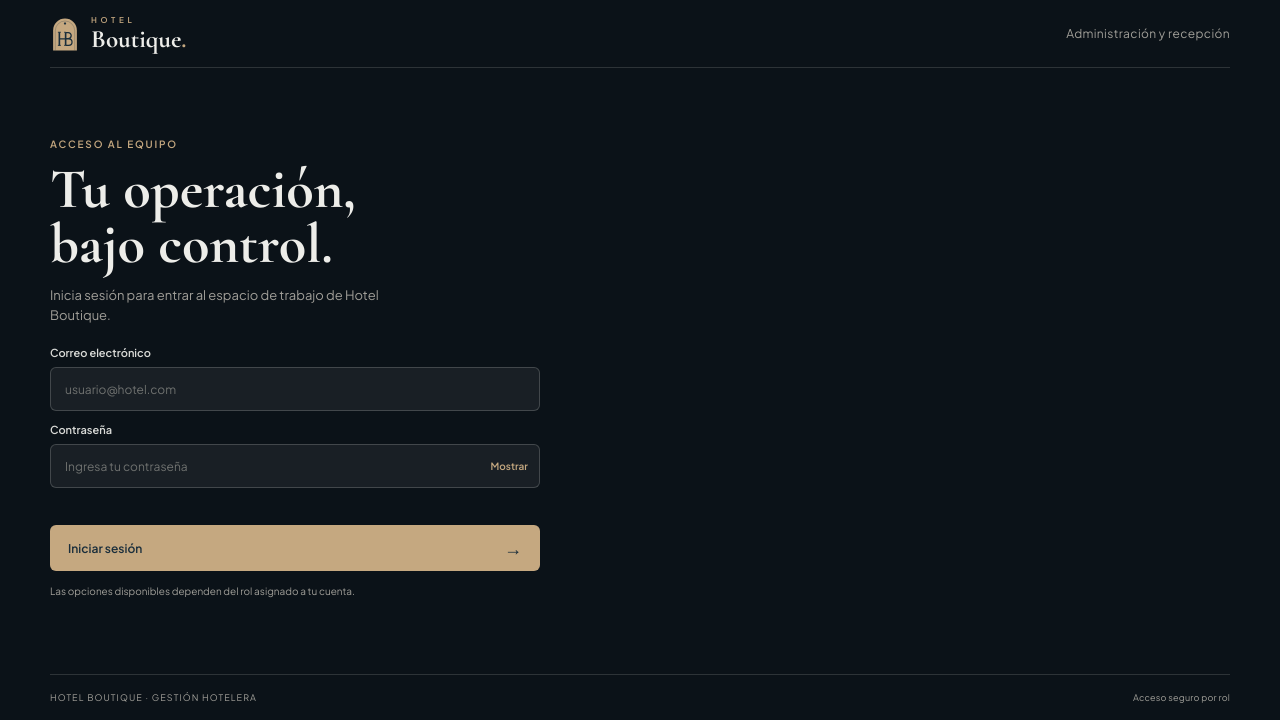
inicio de sesión › rechaza una respuesta vacía de la API sin abrir el panel
Step 1. Type "recepcion@hotel.com" into the field labelled "Correo electrónico" → coordinates (295, 389), box x1=50 y1=367 x2=540 y2=411
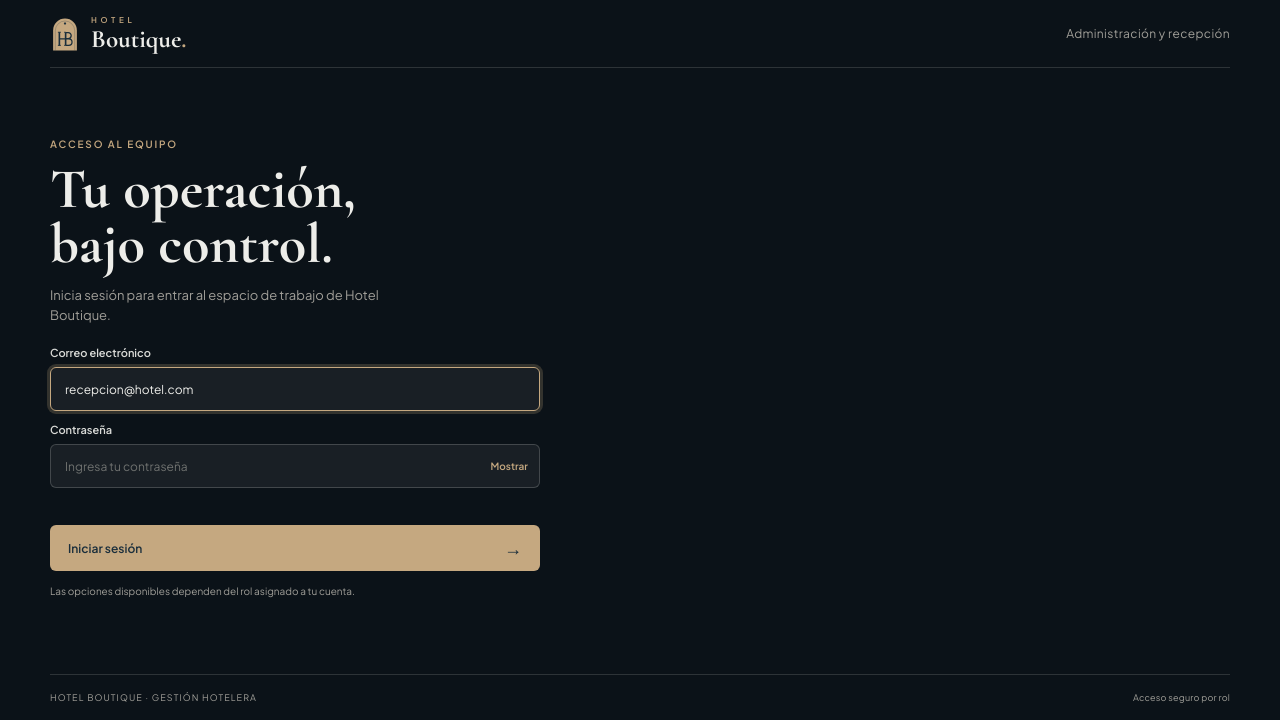
Step 2. Type "clave-test" into the password field labelled "Contraseña" → coordinates (295, 466), box x1=50 y1=444 x2=540 y2=488
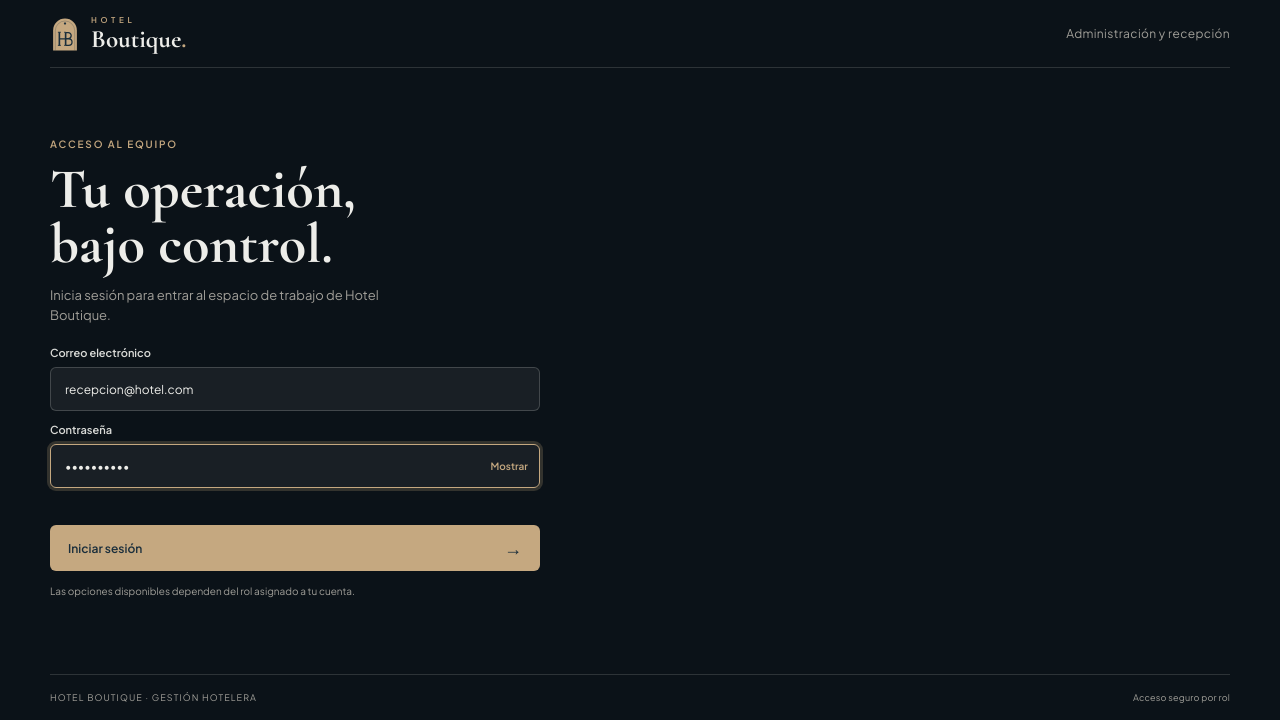
Step 3. Click the button "Iniciar sesión →" → coordinates (105, 548), box x1=50 y1=525 x2=540 y2=571
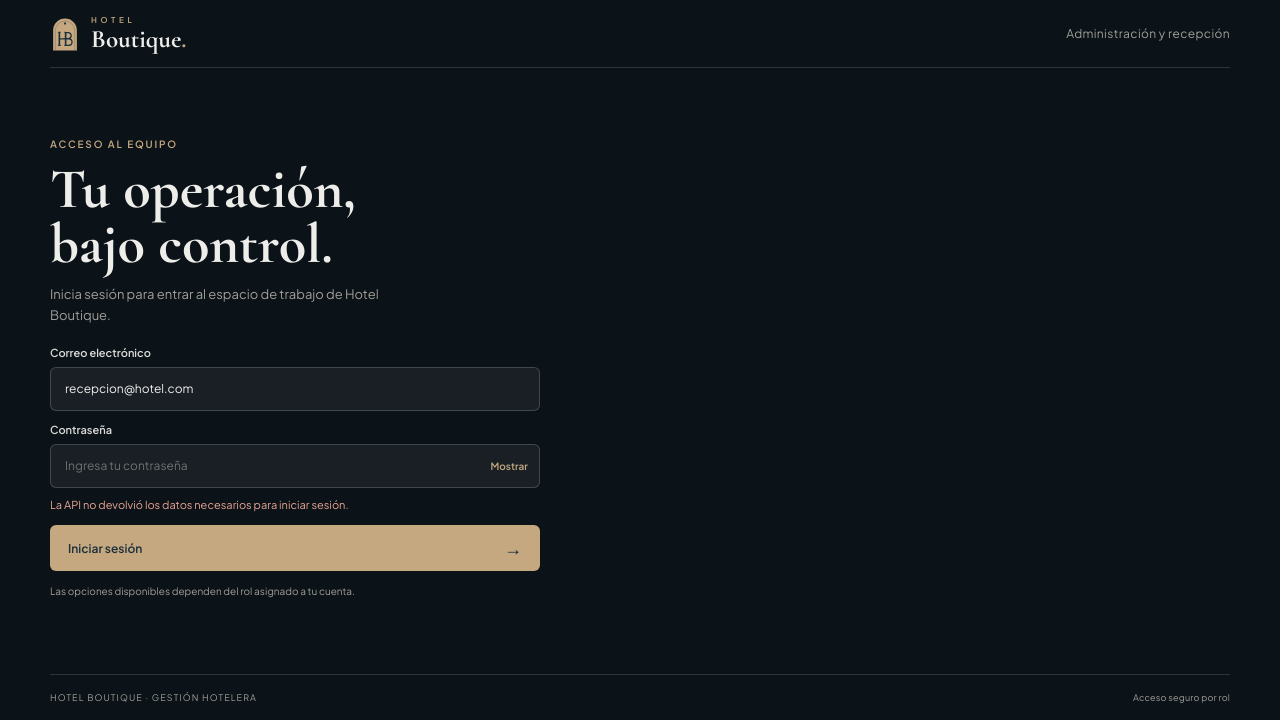
Now the text "La API no devolvió los datos necesarios para iniciar sesión." is shown, box x1=50 y1=498 x2=348 y2=511
